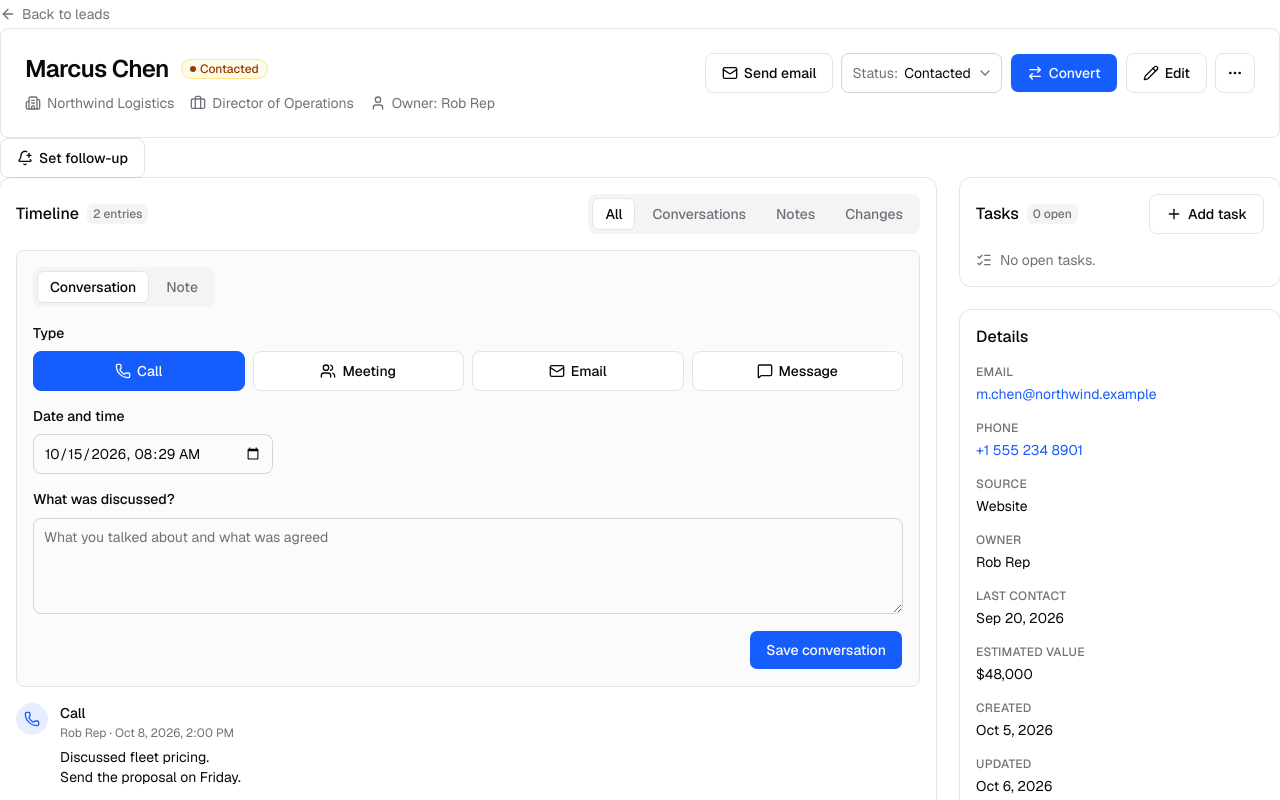
LeadDetailPage › reassigns the lead and shows the new owner
This screenshot has width=1280, height=800.
Expected: the heading "Marcus Chen" is shown, [25,53,169,85]
Click the button named "More actions": (1235, 73) [1215,53,1255,93]
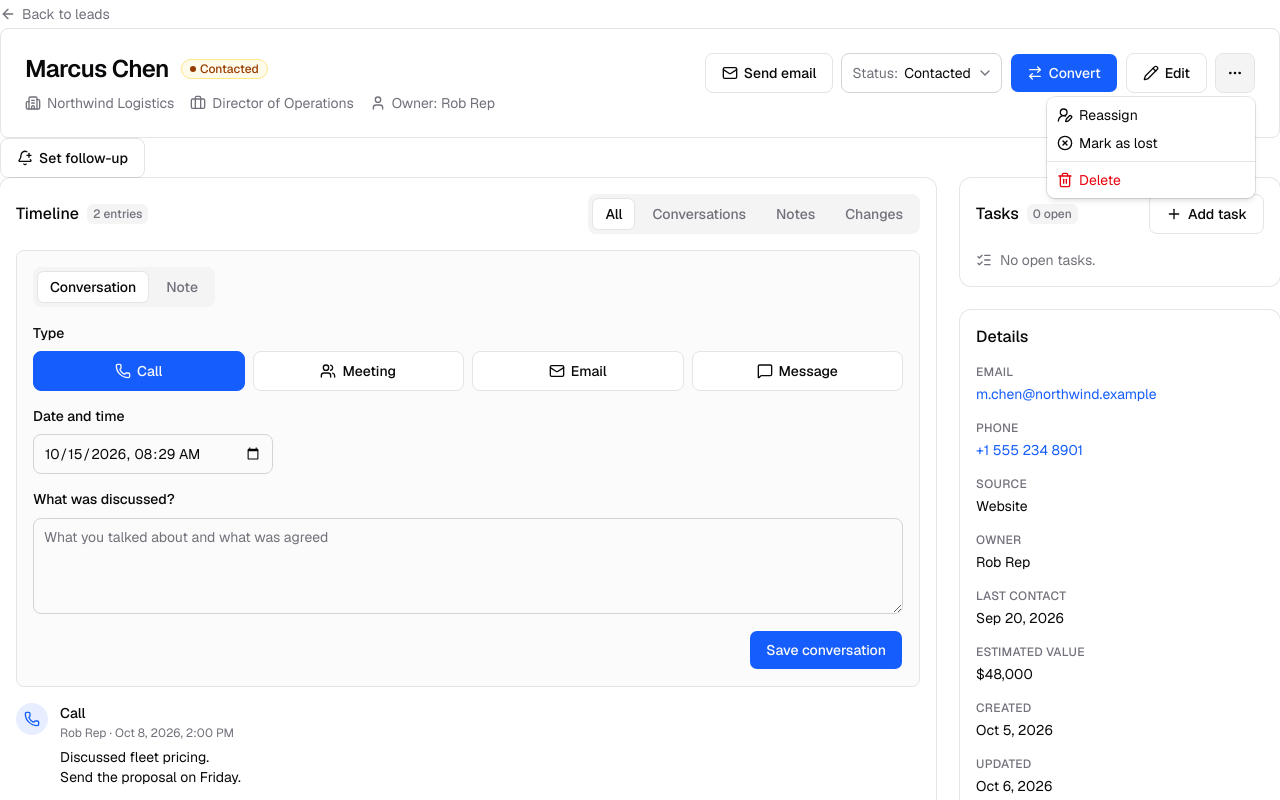
Click the menu item "Reassign": (1097, 115) [1057,106,1138,124]
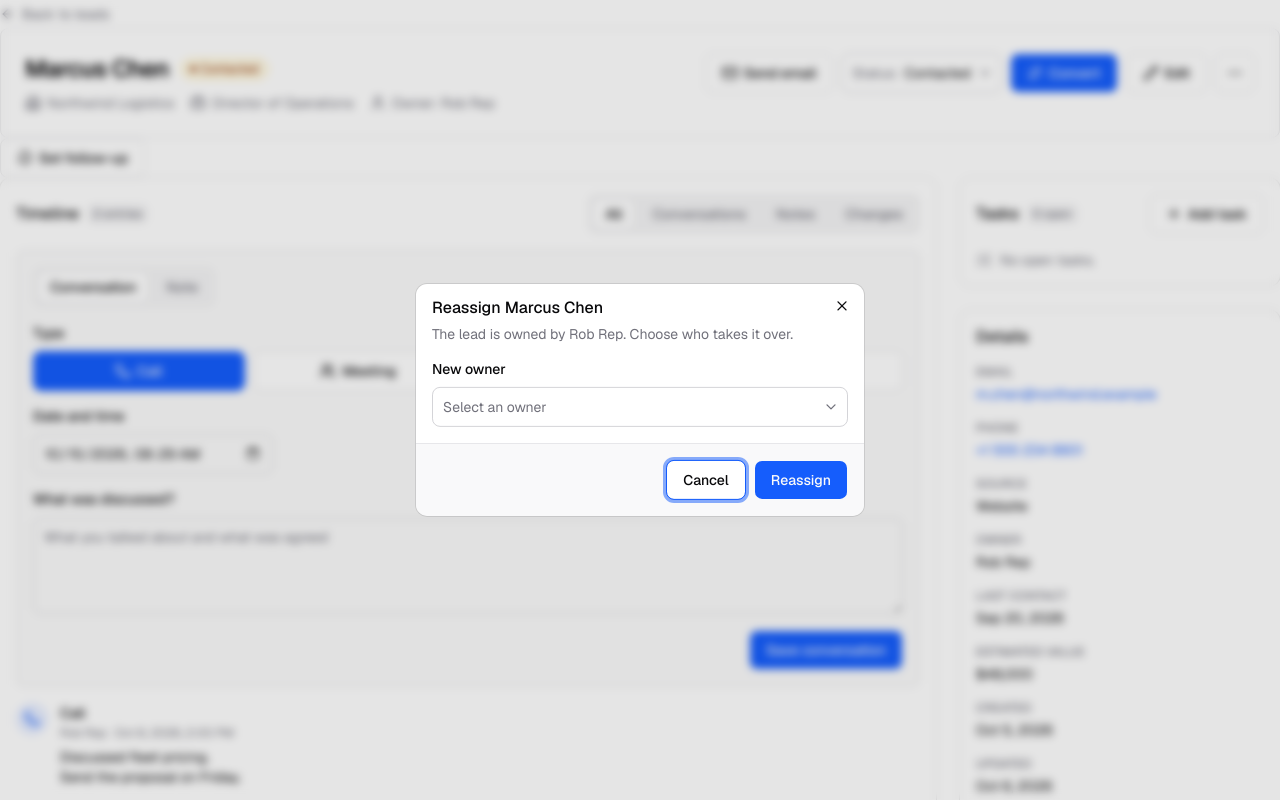
Click the dropdown named "New owner": (495, 407) [432,387,848,427]
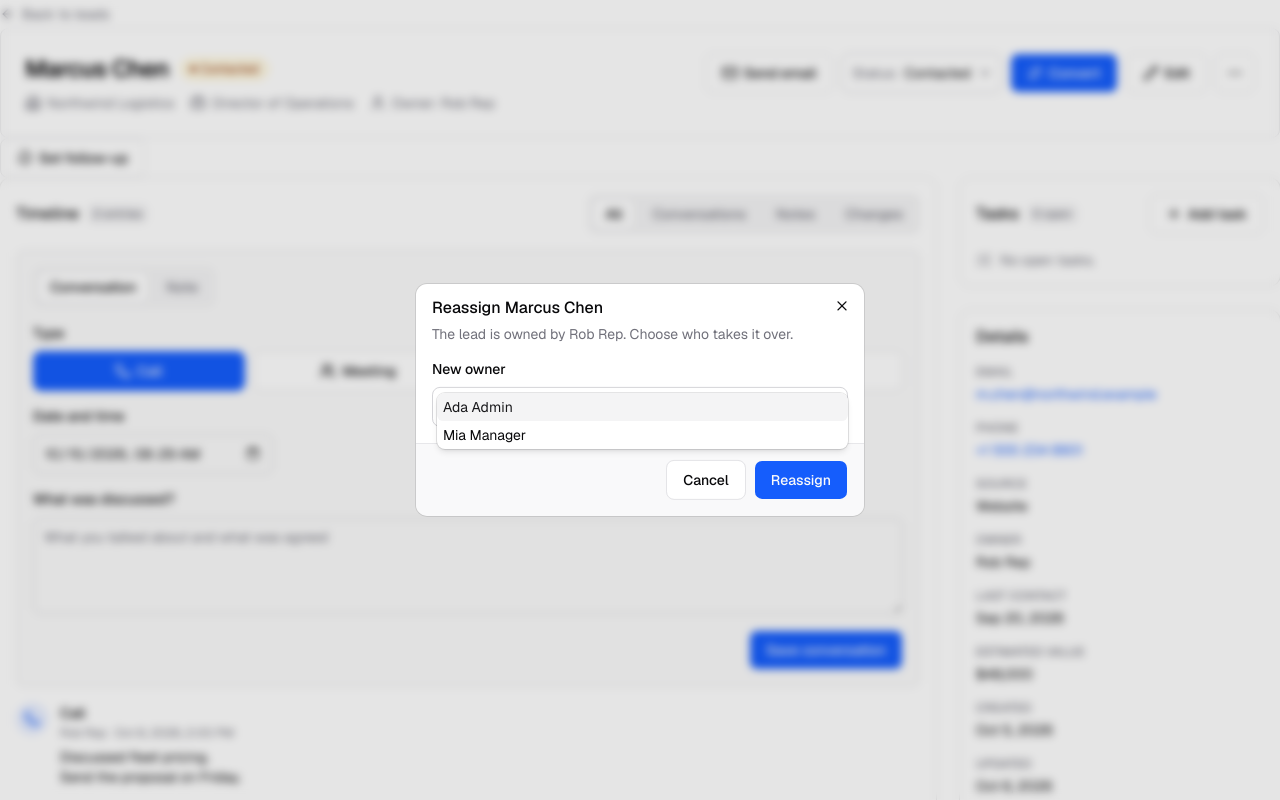
Click the option "Mia Manager": (485, 435) [443,426,526,444]
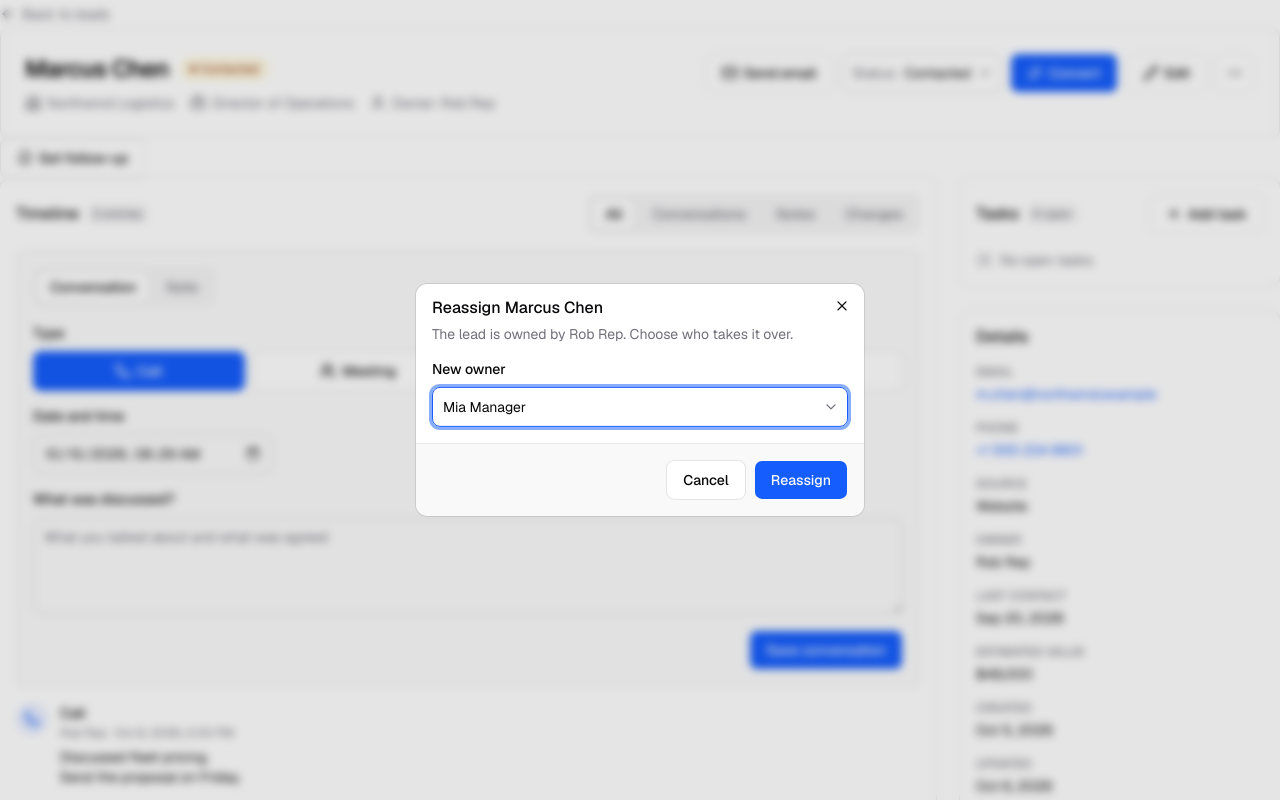
Click the button "Reassign": (801, 480) [754,460,848,500]
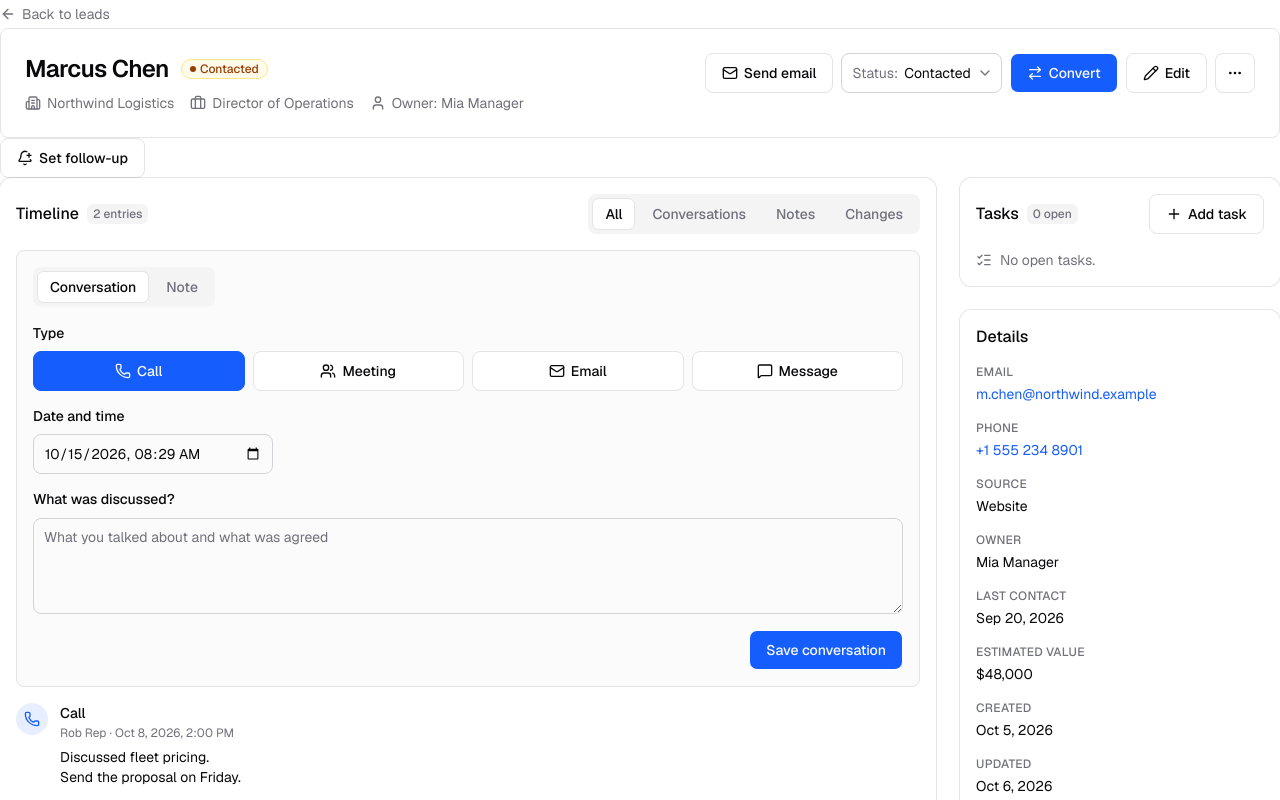
Expected: the text "Owner: Mia Manager" is shown, [392,93,524,113]
